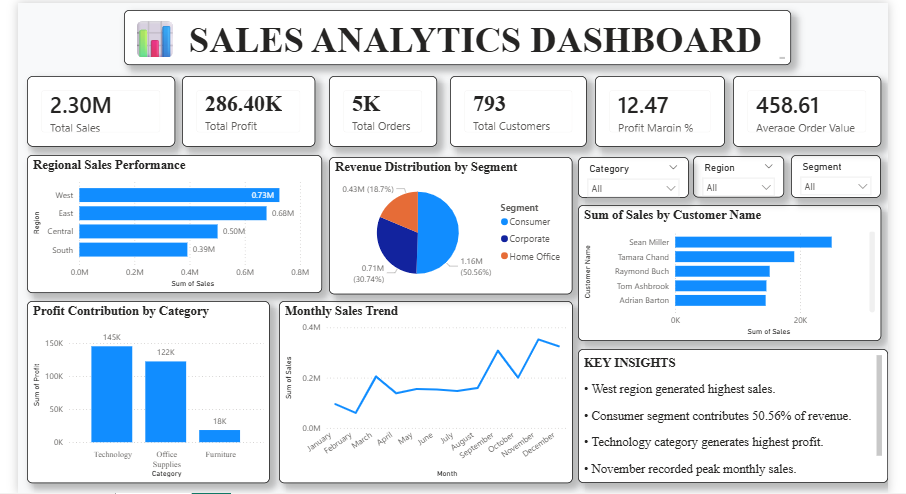

This screenshot's page, from the dashboard's own definition file:
{"tool":"powerbi","page":{"name":"Page 1","canvas":[1280,720],"ordinal":0},"visuals":[{"type":"cardVisual","fields":{"Data":["cleaned_superstore.Total Sales"]},"box":[13.2,107.4,217.6,104.4],"z":0},{"type":"cardVisual","fields":{"Data":["cleaned_superstore.Total Profit"]},"box":[241.2,107.4,195.6,104.4],"z":1000},{"type":"cardVisual","fields":{"Data":["cleaned_superstore.Total Orders"]},"box":[457.4,107.4,158.8,104.4],"z":2000},{"type":"cardVisual","fields":{"Data":["cleaned_superstore.Total Customers"]},"box":[635.3,107.4,201.5,104.4],"z":3000},{"type":"clusteredBarChart","title":"Regional Sales Performance","fields":{"Category":["cleaned_superstore.Region"],"Y":["Sum(cleaned_superstore.Sales)"]},"box":[13.2,223.5,433.8,202.9],"z":4000},{"type":"clusteredColumnChart","title":"Profit Contribution by Category","fields":{"Category":["cleaned_superstore.Category"],"Y":["Sum(cleaned_superstore.Profit)"]},"box":[13.2,438.2,357.4,267.6],"z":5000},{"type":"lineChart","title":"Monthly Sales Trend","fields":{"Y":["Sum(cleaned_superstore.Sales)"],"Category":["cleaned_superstore.Order Date.Variation.Date Hierarchy.Month"]},"box":[383.8,438.2,432.4,267.6],"z":6000},{"type":"pieChart","title":"Revenue Distribution by Segment","fields":{"Category":["cleaned_superstore.Segment"],"Y":["Sum(cleaned_superstore.Sales)"]},"box":[456.7,226.7,358.3,201.7],"z":7000},{"type":"textbox","title":"📊 SALES   ANALYTICS   DASHBOARD","box":[155.9,10.3,980.9,80.9],"z":8000},{"type":"clusteredBarChart","fields":{"Category":["cleaned_superstore.Customer Name"],"Y":["Sum(cleaned_superstore.Sales)"]},"box":[823.5,297.1,445.6,200],"z":9000},{"type":"slicer","fields":{"Values":["cleaned_superstore.Region"]},"box":[993.3,225.6,134.4,61.1],"z":10000},{"type":"slicer","fields":{"Values":["cleaned_superstore.Category"]},"box":[823.3,226.7,163.3,60],"z":11000},{"type":"slicer","fields":{"Values":["cleaned_superstore.Segment"]},"box":[1136.8,223.5,132.4,63.2],"z":12000},{"type":"cardVisual","fields":{"Data":["cleaned_superstore.Profit Margin %"]},"box":[848.5,107.4,191.2,104.4],"z":13000},{"type":"cardVisual","fields":{"Data":["cleaned_superstore.Average Order Value"]},"box":[1051.5,107.4,217.6,104.4],"z":14000},{"type":"textbox","box":[823.5,508.8,455.9,197.1],"z":14001}]}

Visuals, with their boxes in screenshot pixels (x1, y1, x2, y2):
cardVisual - cleaned_superstore.Total Sales: detection(25, 75, 172, 145)
cardVisual - cleaned_superstore.Total Profit: detection(179, 75, 312, 145)
cardVisual - cleaned_superstore.Total Orders: detection(325, 75, 433, 145)
cardVisual - cleaned_superstore.Total Customers: detection(446, 75, 582, 145)
"Regional Sales Performance" clusteredBarChart: detection(25, 153, 318, 290)
"Profit Contribution by Category" clusteredColumnChart: detection(25, 298, 267, 479)
"Monthly Sales Trend" lineChart: detection(276, 298, 568, 479)
"Revenue Distribution by Segment" pieChart: detection(325, 155, 567, 292)
"📊 SALES   ANALYTICS   DASHBOARD" textbox: detection(122, 9, 784, 64)
clusteredBarChart - cleaned_superstore.Customer Name x Sum(cleaned_superstore.Sales): detection(573, 203, 874, 338)
slicer - cleaned_superstore.Region: detection(687, 155, 778, 196)
slicer - cleaned_superstore.Category: detection(573, 155, 683, 196)
slicer - cleaned_superstore.Segment: detection(784, 153, 874, 196)
cardVisual - cleaned_superstore.Profit Margin %: detection(590, 75, 719, 145)
cardVisual - cleaned_superstore.Average Order Value: detection(727, 75, 874, 145)
textbox: detection(573, 346, 881, 479)
